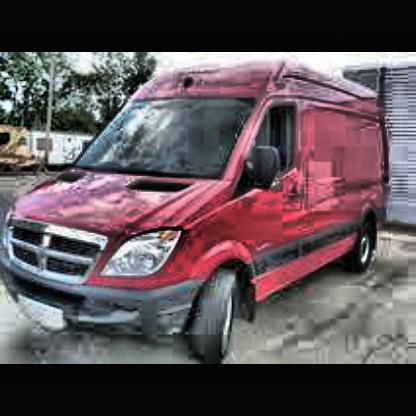Dodge Sprinter Cargo Van 2009: (7, 64, 397, 364)
